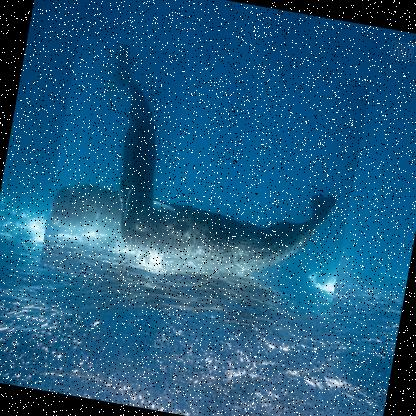sperm_whale: (39, 34, 371, 318)
